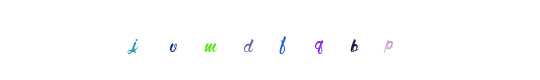B: (270, 0, 350, 80)
D: (224, 0, 304, 80)
F: (230, 0, 310, 80)
J: (170, 0, 250, 80)
M: (188, 0, 268, 80)
P: (279, 0, 359, 80)
Q: (257, 0, 337, 80)
V: (176, 0, 256, 80)
